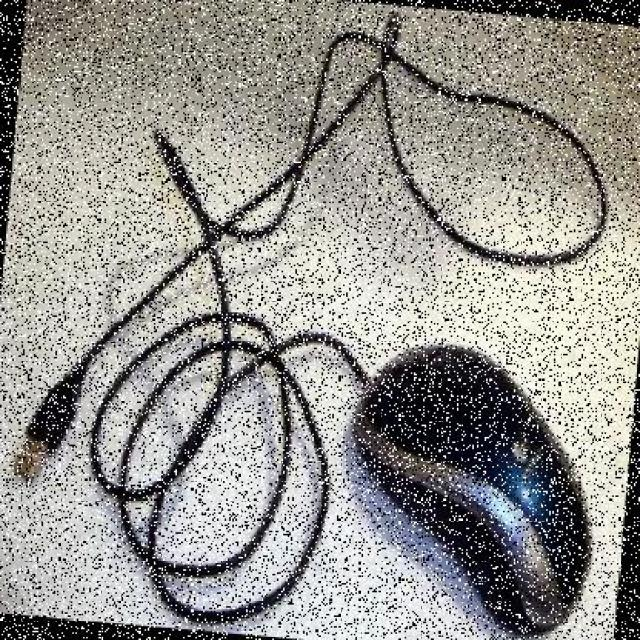mause: (317, 318, 612, 637)
